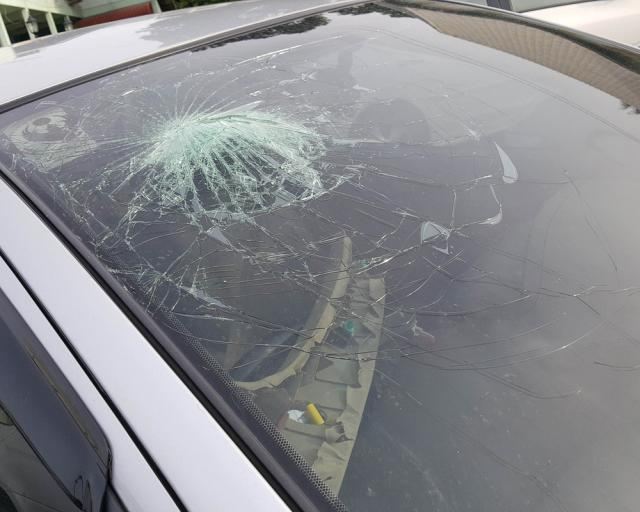glass shatter: (0, 0, 640, 512)
